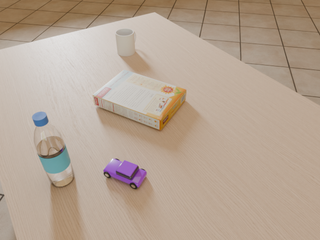bottle: (32, 112, 74, 187)
box: (93, 70, 186, 130)
cup: (115, 29, 136, 56)
toy_car: (103, 159, 147, 189)
